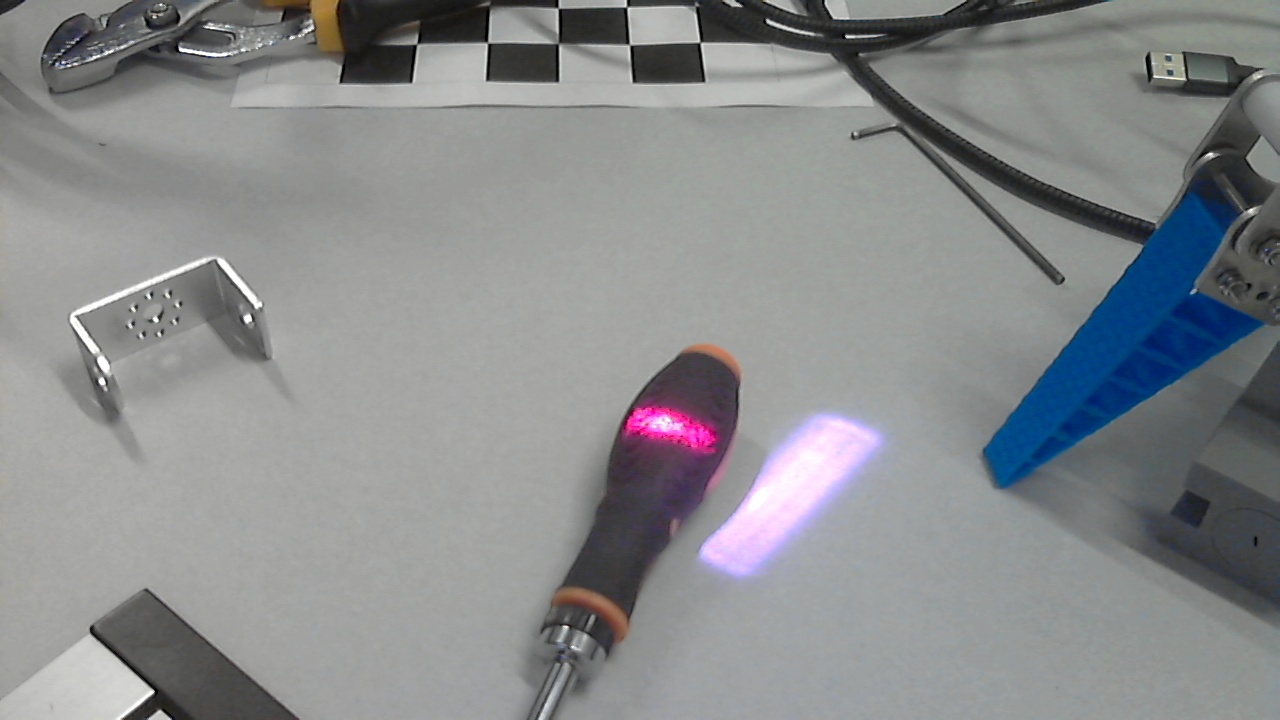Object precision screwdriver - Material rubber - Color black and orange - Pdfnam: (580, 409, 782, 501)
